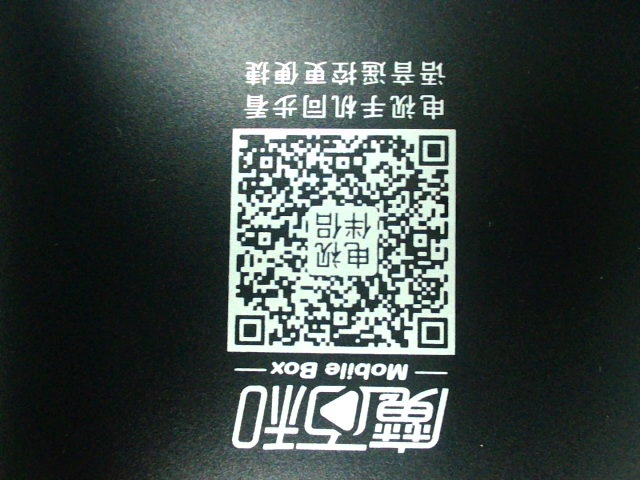AZ_MobileBox: (217, 52, 473, 452)
